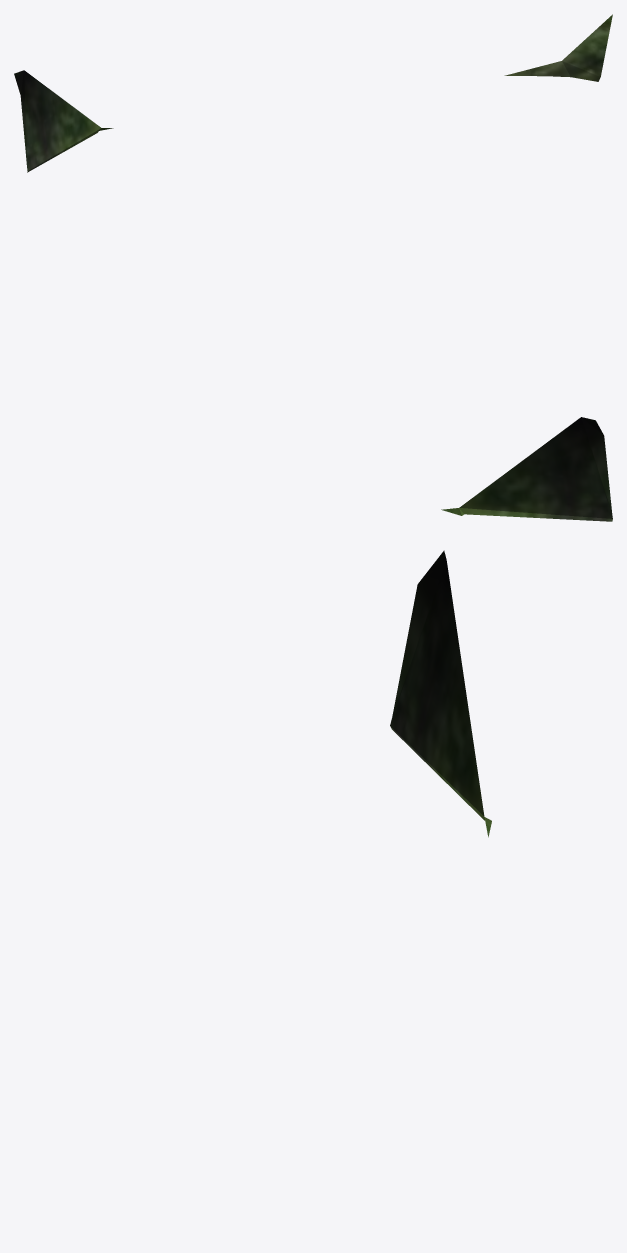
The picture shows the model from 3 angles, top to bottom: view 1: azimuth 30°, elevation 25°; view 2: azimuth 150°, elevation 25°; view 3: azimuth 270°, elevation 25°; orthographic projection. The views are drawn at different scales.
Bounding box in the file's own units: 26.11 × 4.31 × 7.74.
1 material, 1 textured.
